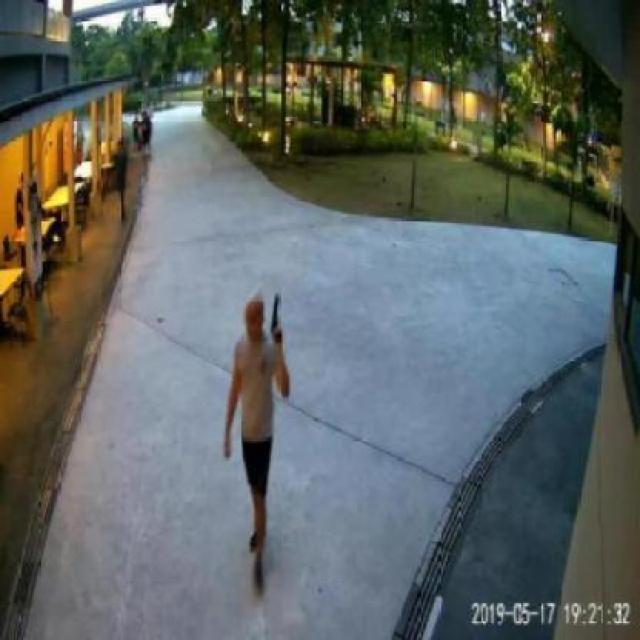gun: (267, 289, 281, 340)
